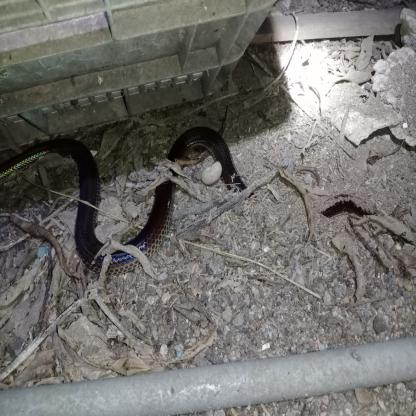Snake: (0, 126, 180, 270), (317, 185, 416, 261), (189, 123, 264, 213)
